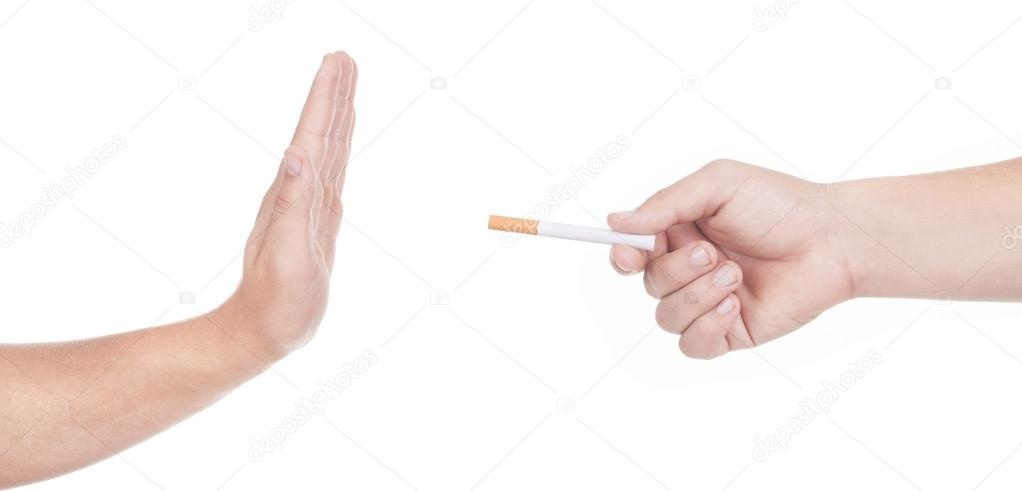sigaretta: (489, 214, 678, 262)
